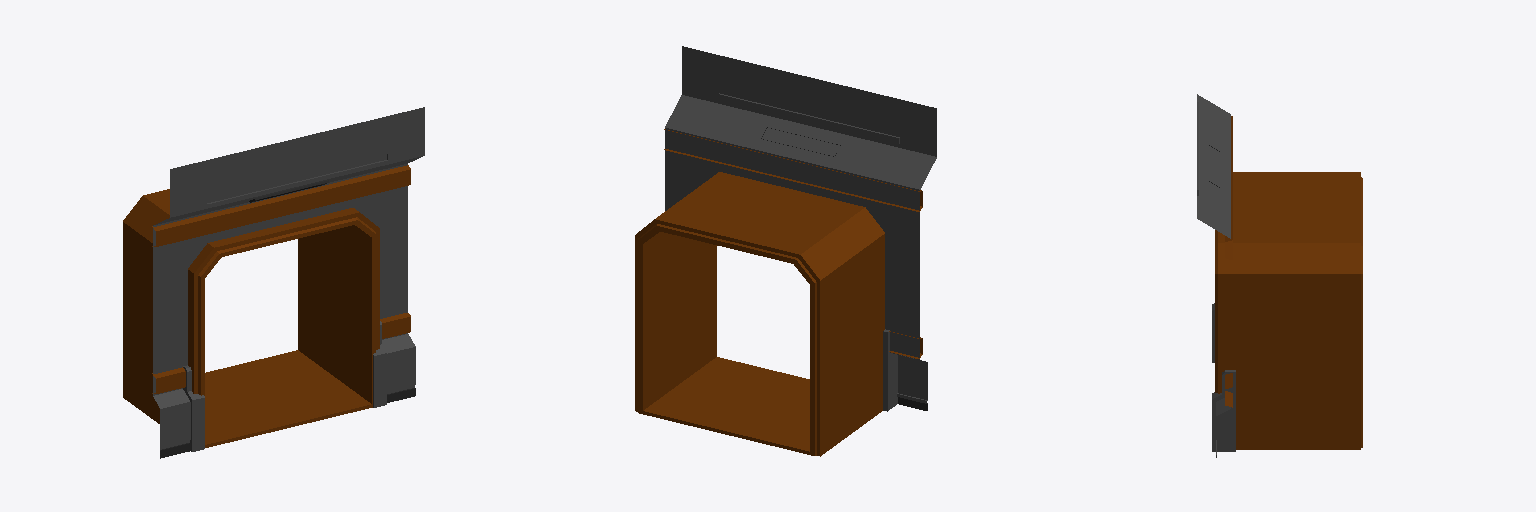
The model's file is DoorDoubleLong_Wall_SideA.obj.
3 views of the same model, side by side, from view 1: azimuth 30°, elevation 25°; view 2: azimuth 150°, elevation 25°; view 3: azimuth 270°, elevation 25° (orthographic).
Visible parts, largest first — view 1: DoorDoubleLong_Wall_SideA_Plane.312; view 2: DoorDoubleLong_Wall_SideA_Plane.312; view 3: DoorDoubleLong_Wall_SideA_Plane.312.
Boxes of the visible parts, x1=… form: DoorDoubleLong_Wall_SideA_Plane.312: x1=123, y1=107, x2=424, y2=458; DoorDoubleLong_Wall_SideA_Plane.312: x1=635, y1=46, x2=936, y2=456; DoorDoubleLong_Wall_SideA_Plane.312: x1=1197, y1=94, x2=1362, y2=457.
Bounding box in the file's own units: 4 × 4.44 × 2.25.